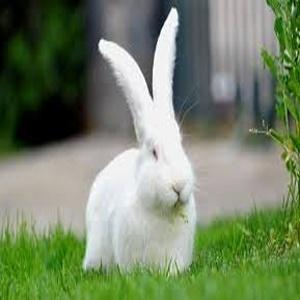rabbit: (83, 9, 198, 278)
